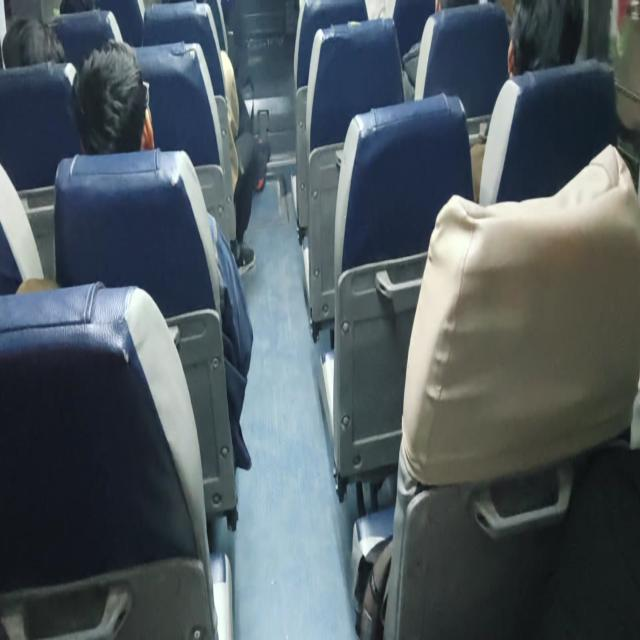person: (70, 38, 254, 470), (469, 0, 583, 202), (70, 38, 154, 155), (402, 0, 479, 100), (507, 0, 583, 78), (2, 16, 65, 68)
